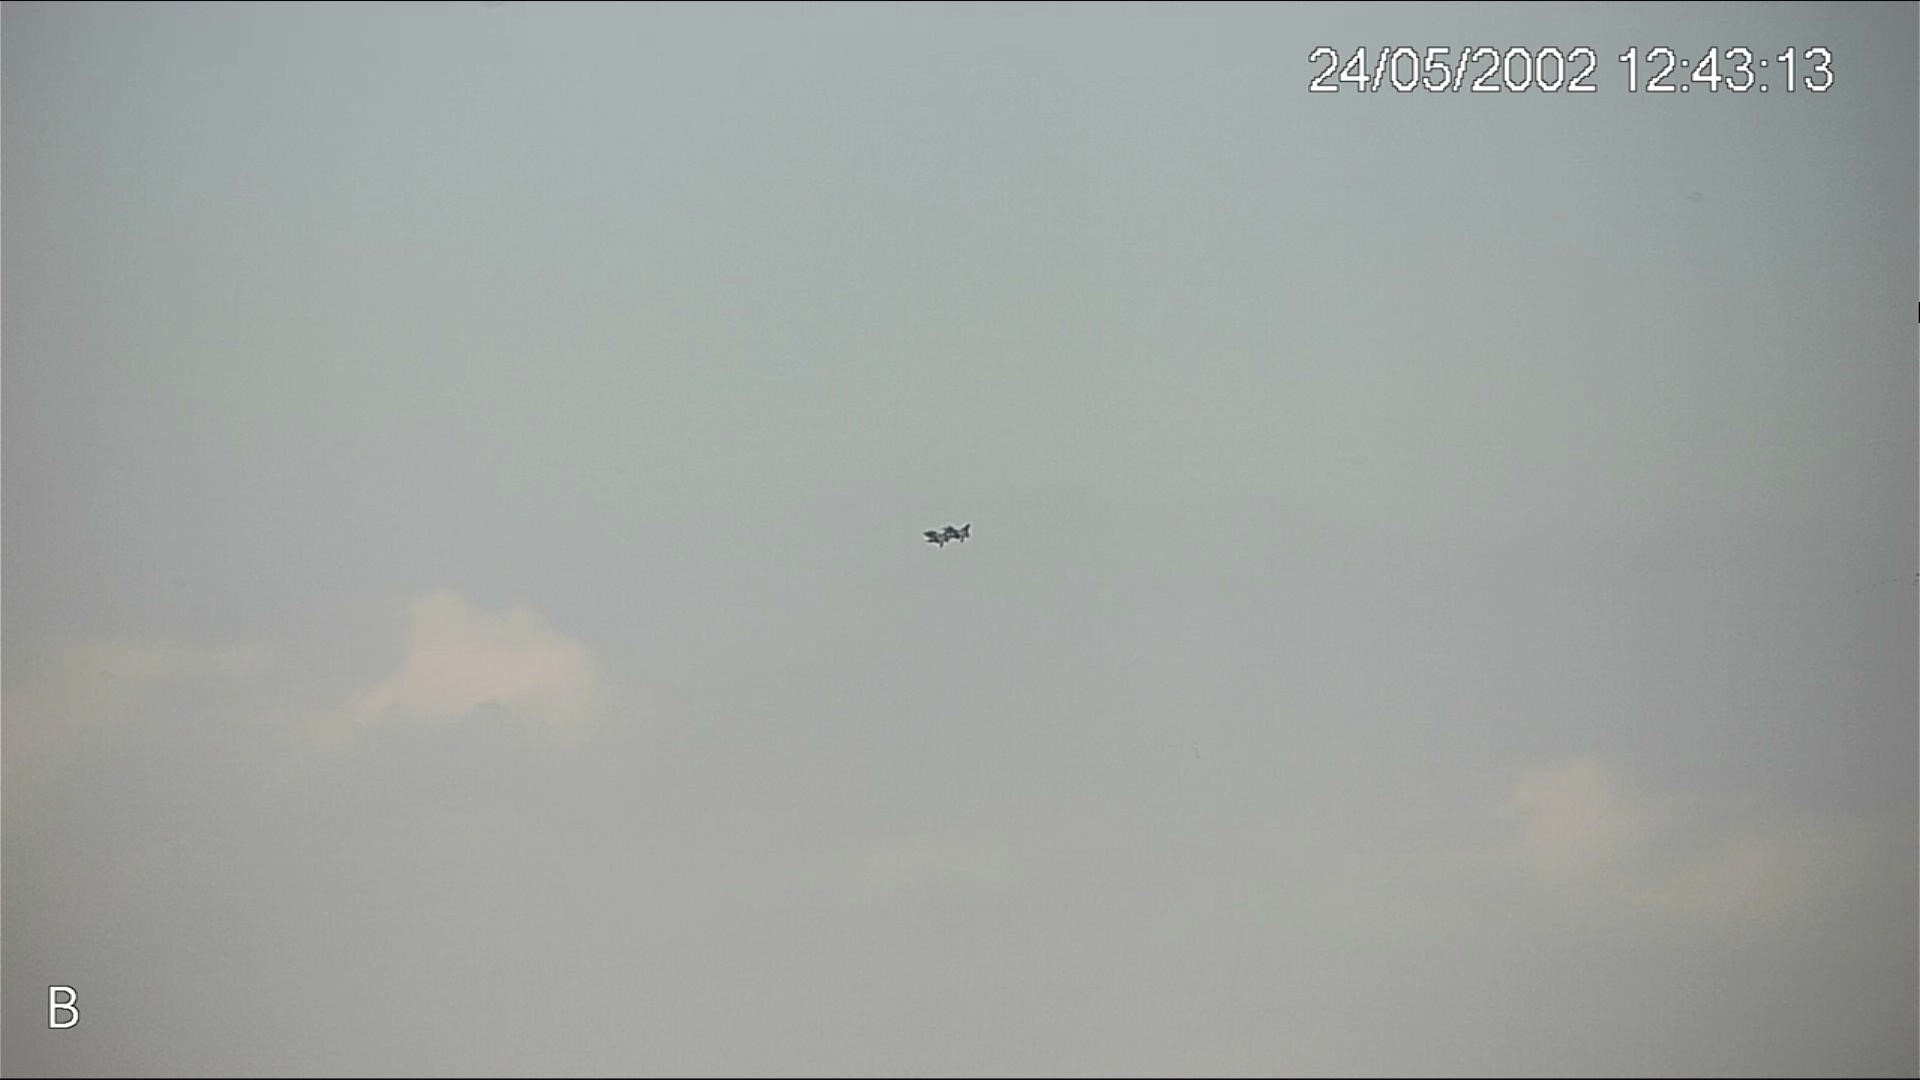SU_30: (942, 522, 973, 542)
